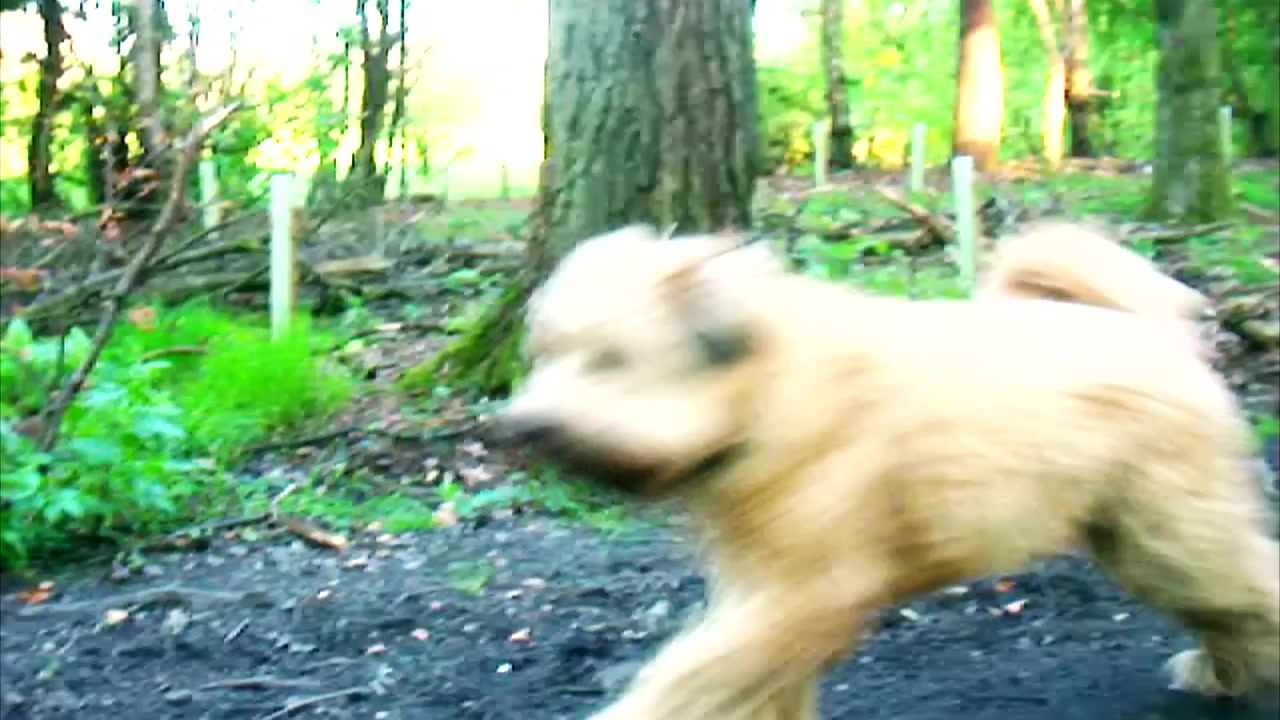dog: (489, 226, 1280, 720)
